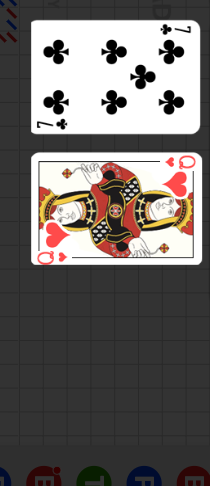7C: (158, 23, 193, 37)
9H: (35, 250, 69, 265)
